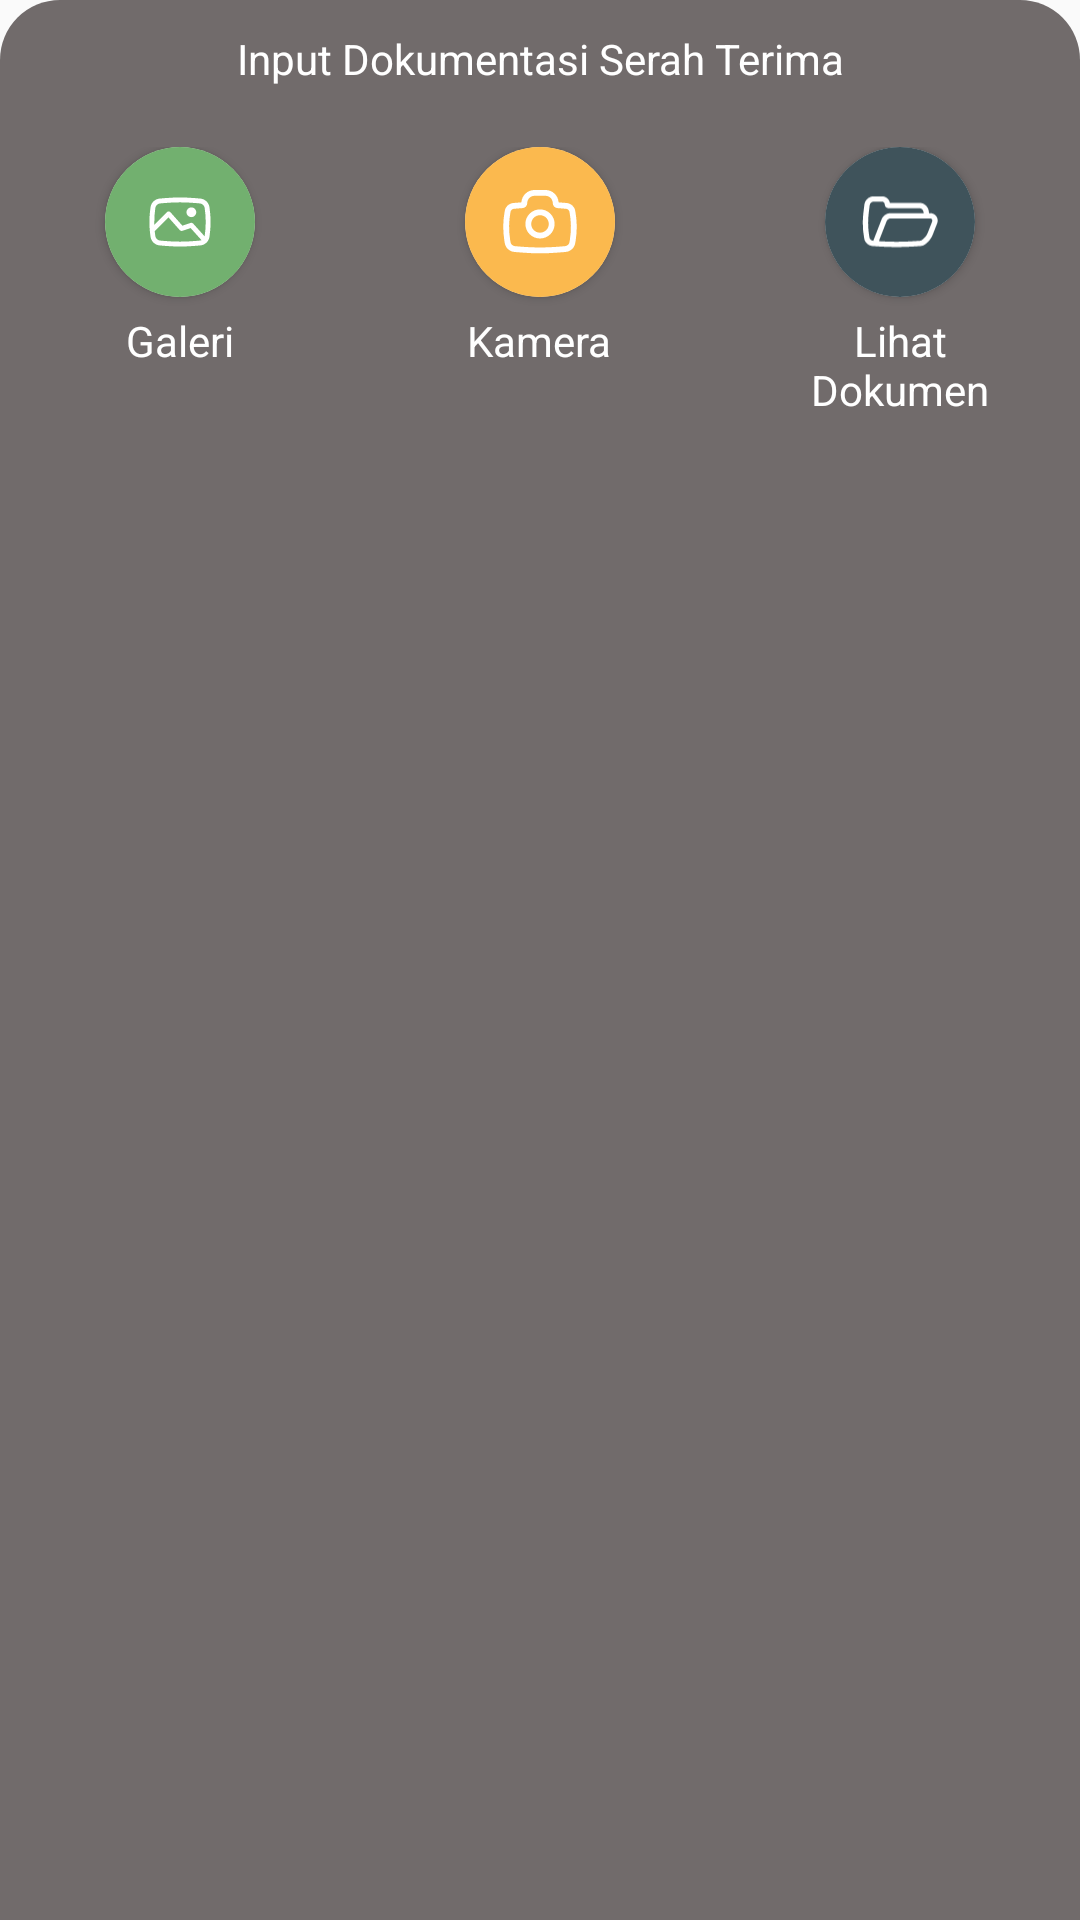

Icons on this 1080px×1920px Android screen, each with the point to tap as point (x, y):
camera: point (540, 222)
open: point (900, 222)
